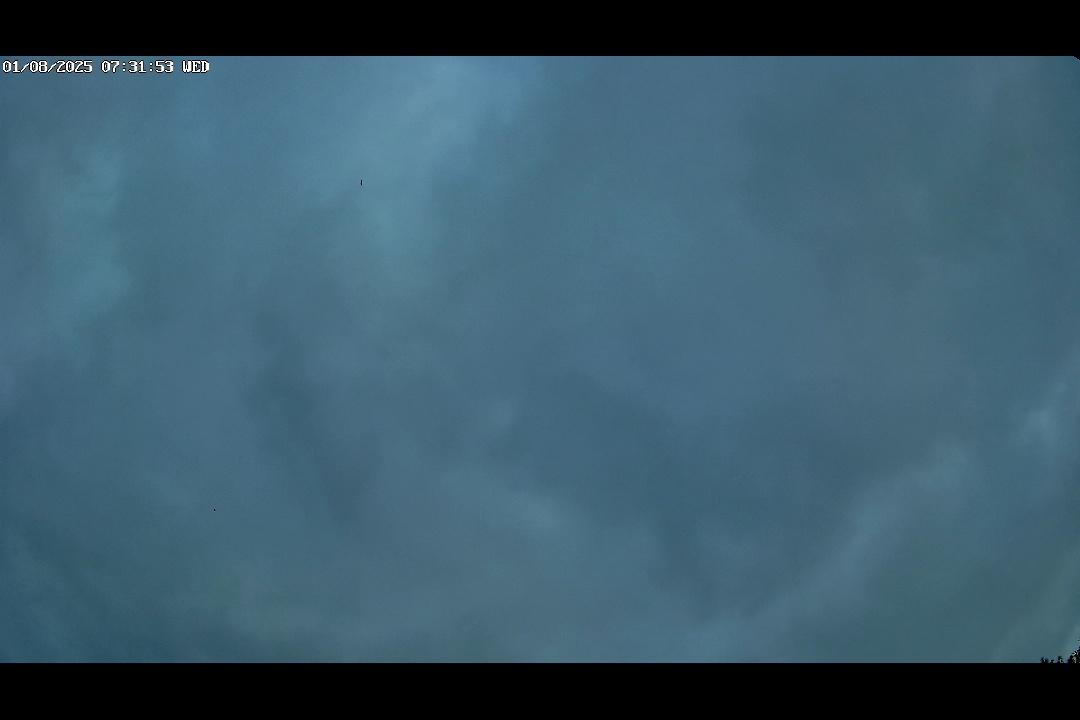WildLife: (343, 169, 378, 190)
